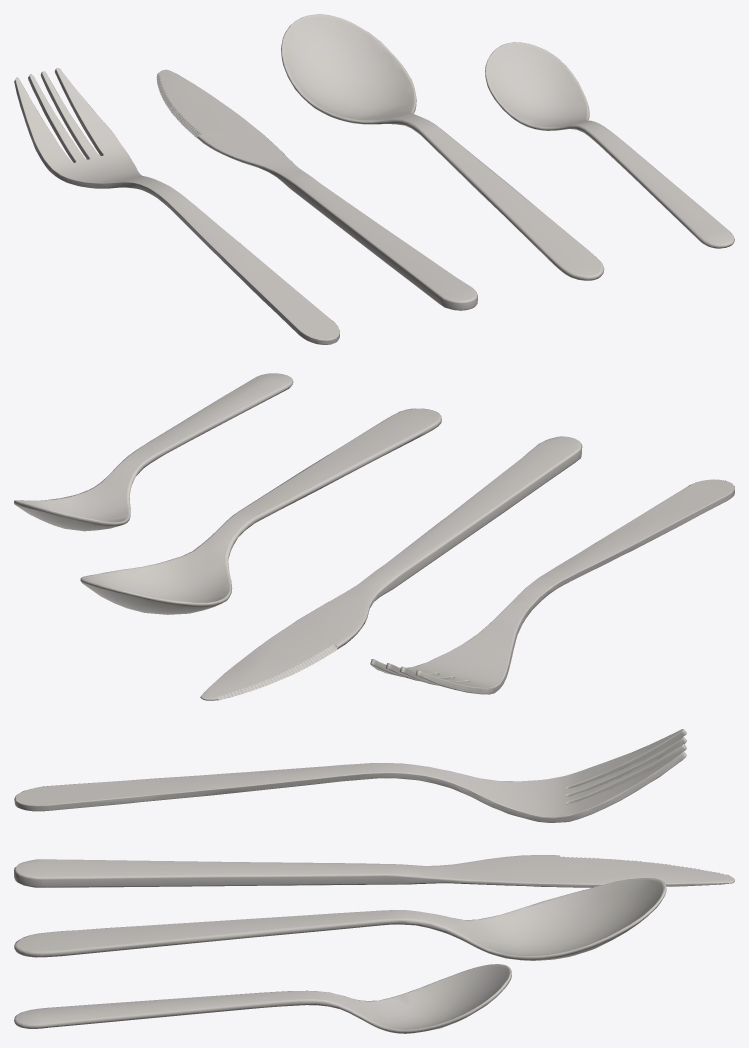
The model's file is FÖRNUFT Ménagère 24 pièces acier inoxydable.glb.
3 renders of one model, top to bottom at view 1: azimuth 30°, elevation 25°; view 2: azimuth 150°, elevation 25°; view 3: azimuth 270°, elevation 25°, orthographic. The views are drawn at different scales.
Visible parts, largest first — view 1: ASY_LPT03_70014999_S01_NV01, ASY_LPT01_70014999_S01_NV01, ASY_LPT02_70014999_S01_NV01, ASY_LPT04_70014999_S01_NV01; view 2: ASY_LPT02_70014999_S01_NV01, ASY_LPT03_70014999_S01_NV01, ASY_LPT01_70014999_S01_NV01, ASY_LPT04_70014999_S01_NV01; view 3: ASY_LPT03_70014999_S01_NV01, ASY_LPT01_70014999_S01_NV01, ASY_LPT02_70014999_S01_NV01, ASY_LPT04_70014999_S01_NV01.
Part boxes in pixels (x1,y1,x2,y2): ASY_LPT03_70014999_S01_NV01: (281, 14, 604, 280); ASY_LPT01_70014999_S01_NV01: (14, 68, 339, 344); ASY_LPT02_70014999_S01_NV01: (156, 69, 477, 310); ASY_LPT04_70014999_S01_NV01: (485, 42, 734, 248); ASY_LPT02_70014999_S01_NV01: (200, 436, 582, 700); ASY_LPT03_70014999_S01_NV01: (80, 408, 441, 614); ASY_LPT01_70014999_S01_NV01: (370, 479, 734, 694); ASY_LPT04_70014999_S01_NV01: (14, 373, 293, 531); ASY_LPT03_70014999_S01_NV01: (14, 878, 666, 960); ASY_LPT01_70014999_S01_NV01: (14, 729, 686, 822); ASY_LPT02_70014999_S01_NV01: (14, 855, 734, 887); ASY_LPT04_70014999_S01_NV01: (14, 964, 511, 1033).
Size of the model in its own units: 0.1797 by 0.0205 by 0.209.
Materials: 4 (3 with a texture image).
